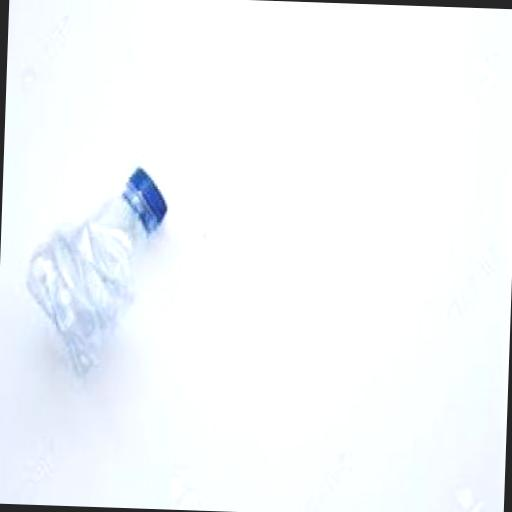plastic: (20, 158, 166, 386), (120, 166, 166, 230)
